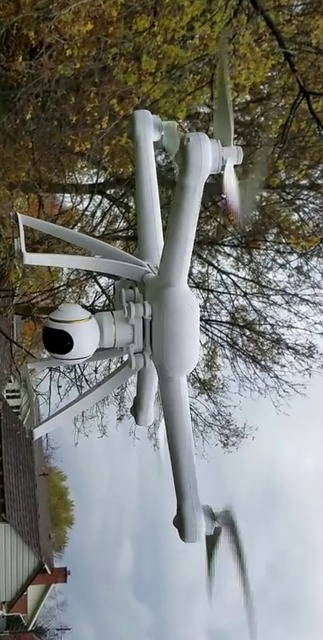drone: (17, 42, 254, 634)
